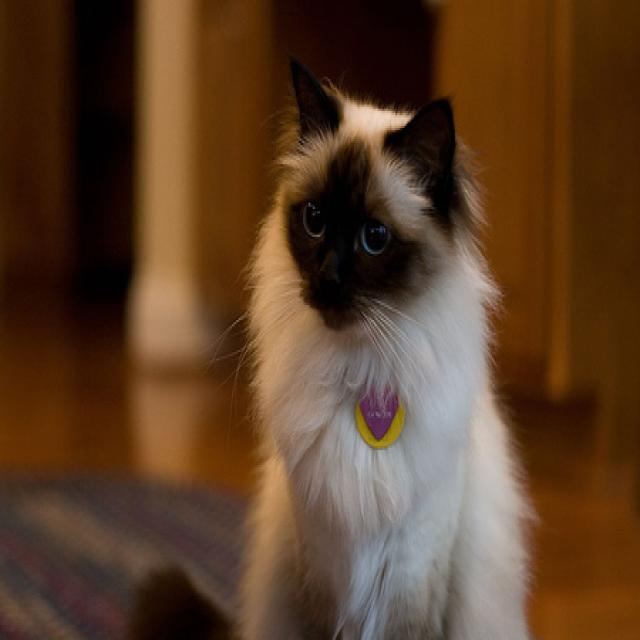Birman: (128, 45, 543, 640)
